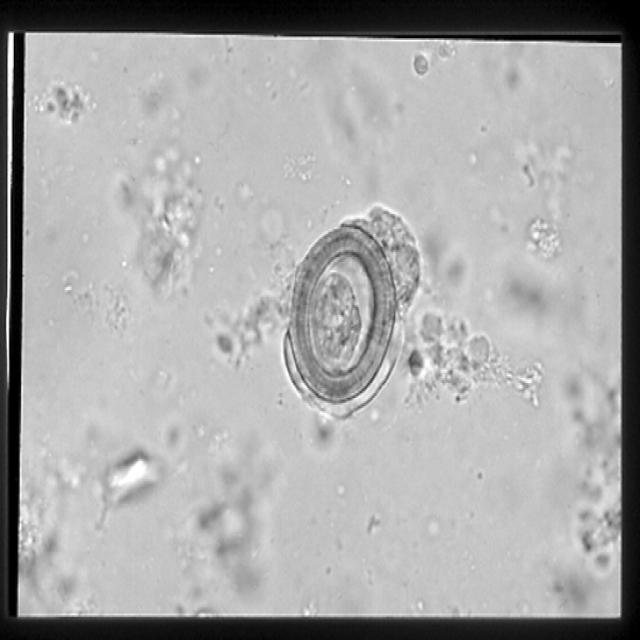Taenia Sp: (285, 217, 403, 408)
